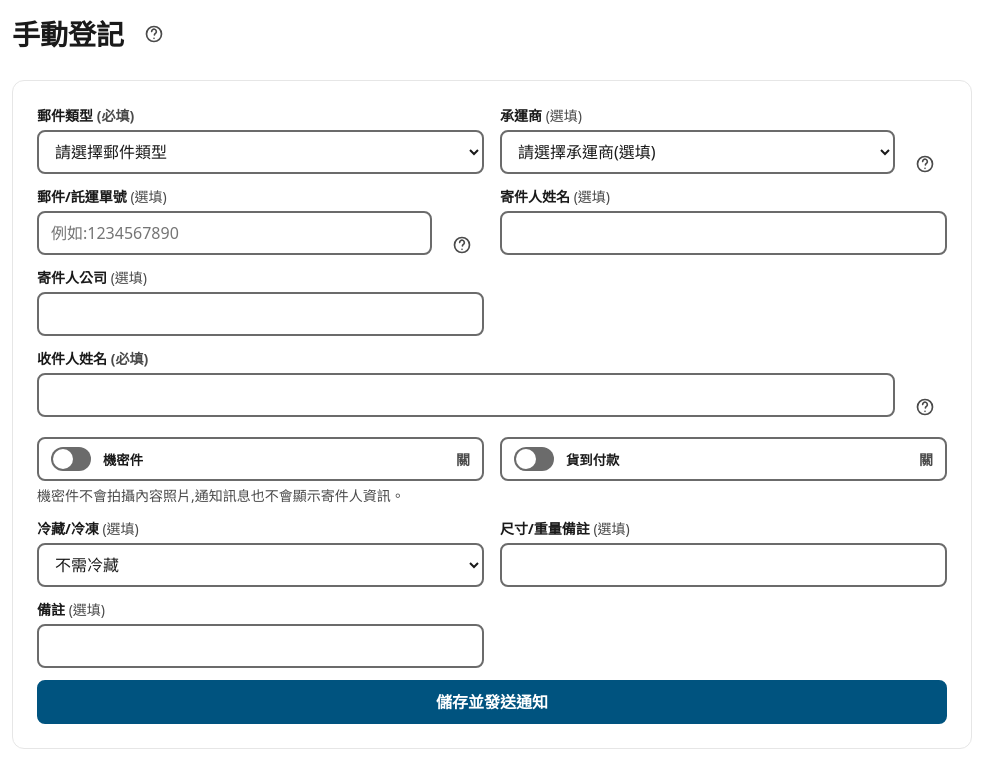
Test: InboundRegisterPage — "其他" carrier free-text field › reveals a required free-text field when the carrier select resolves to "其他", and hides it again when switched away
Select "其他" in the dropdown labelled "承運商 (選填)": [698, 152] box [500, 130, 895, 174]
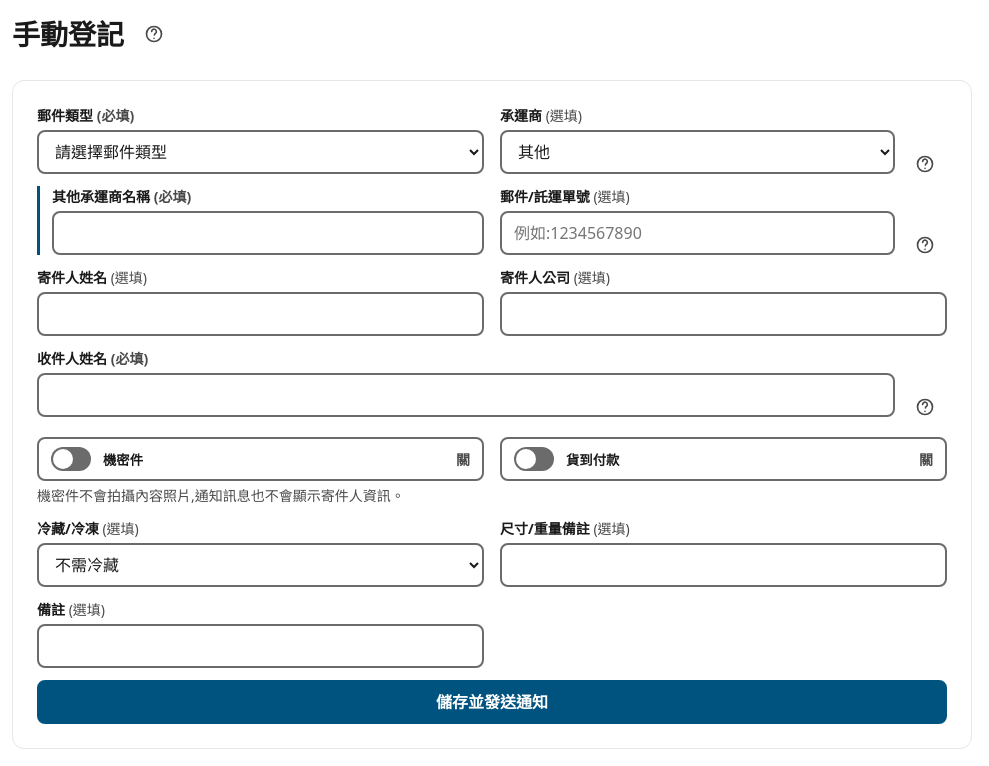
Now the text "其他承運商名稱" is shown, box [52, 187, 154, 206]
Select "中華郵政掛號/包裹" in the dropdown labelled "承運商 (選填)": [698, 152] box [500, 130, 895, 174]
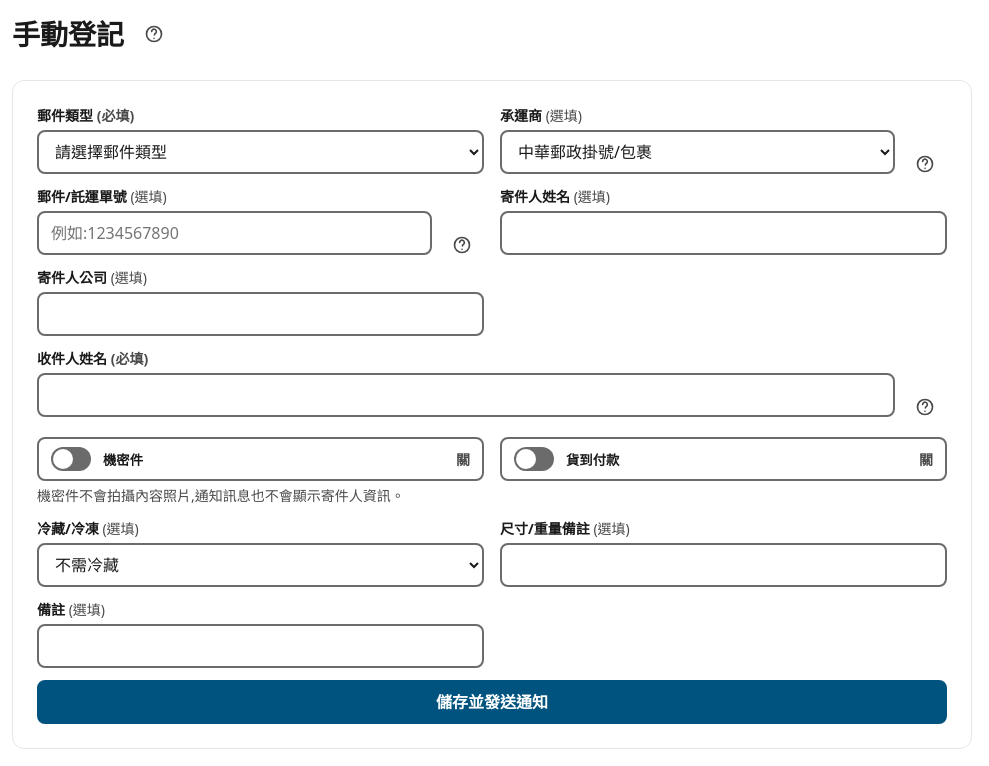
Now the text "其他承運商名稱" is gone
